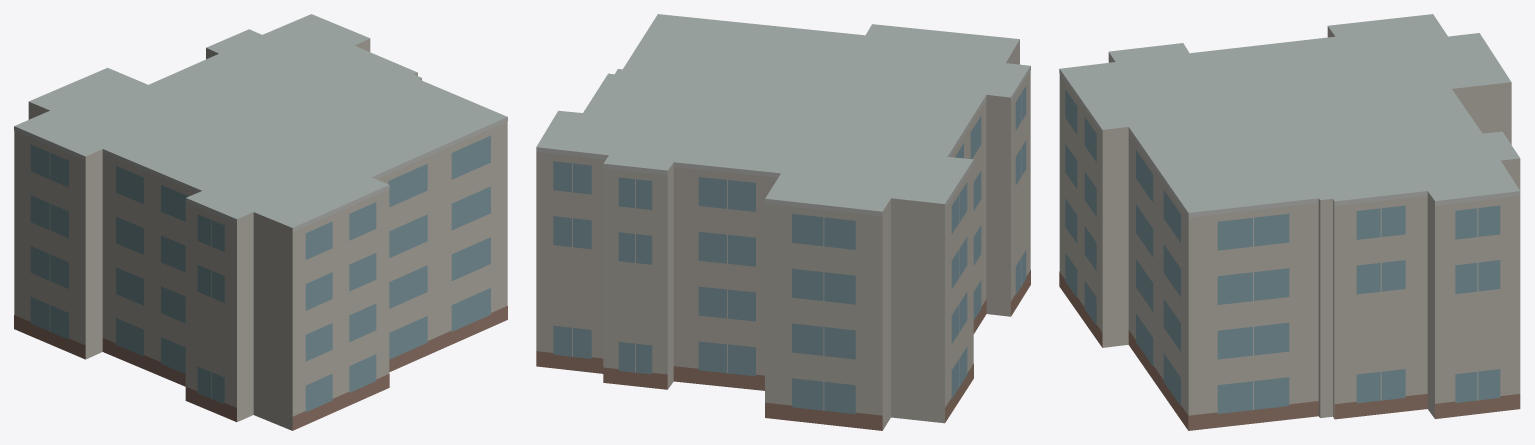
Rendered from survey-upis-32524489.glb.
3 renders of one model, left to right at view 1: azimuth 30°, elevation 25°; view 2: azimuth 150°, elevation 25°; view 3: azimuth 270°, elevation 25°, orthographic. The views are drawn at different scales.
Visible parts, largest first — view 1: survey-upis-32524489.tmp; view 2: survey-upis-32524489.tmp; view 3: survey-upis-32524489.tmp.
Part boxes in pixels (<box>): survey-upis-32524489.tmp: <box>14,14,507,430</box>; survey-upis-32524489.tmp: <box>536,14,1030,430</box>; survey-upis-32524489.tmp: <box>1059,14,1520,430</box>.
Size of the model in its own units: 21.94 by 11.2 by 21.47.
